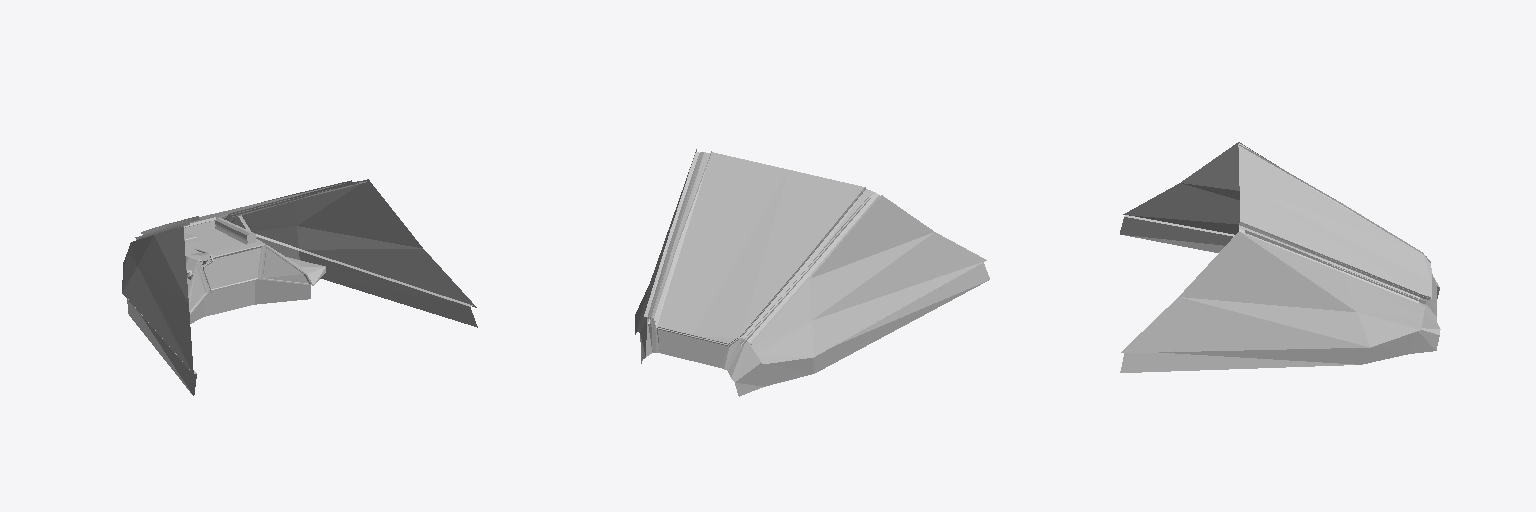
File: 1st Person Cockpit.obj
3 views of the same model, side by side, from view 1: azimuth 30°, elevation 25°; view 2: azimuth 150°, elevation 25°; view 3: azimuth 270°, elevation 25° (orthographic).
Parts seen in each view (by area): view 1: cockpitwin3, cockpitwin2, cockpitframe, 3D_Object_2, all_1st_cockpit_xw, tach; view 2: cockpitwin1, cockpitwin2, cockpitframe, cockpitwin3; view 3: cockpitwin3, cockpitwin1, cockpitframe, cockpitwin2.
Boxes of the visible parts, box(x1,y1,x2,y2) form: cockpitwin3: box(242, 179, 476, 307); cockpitwin2: box(122, 225, 193, 374); cockpitframe: box(127, 180, 477, 395); 3D_Object_2: box(184, 221, 325, 323); all_1st_cockpit_xw: box(189, 248, 308, 311); tach: box(215, 218, 256, 244); cockpitwin1: box(653, 152, 864, 345); cockpitwin2: box(751, 195, 986, 363); cockpitframe: box(636, 151, 989, 396); cockpitwin3: box(635, 149, 696, 334); cockpitwin3: box(1121, 232, 1424, 352); cockpitwin1: box(1239, 146, 1431, 298); cockpitframe: box(1120, 143, 1440, 372); cockpitwin2: box(1123, 142, 1278, 234).
Bounding box in the file's own units: 31.83 × 15.75 × 31.15.